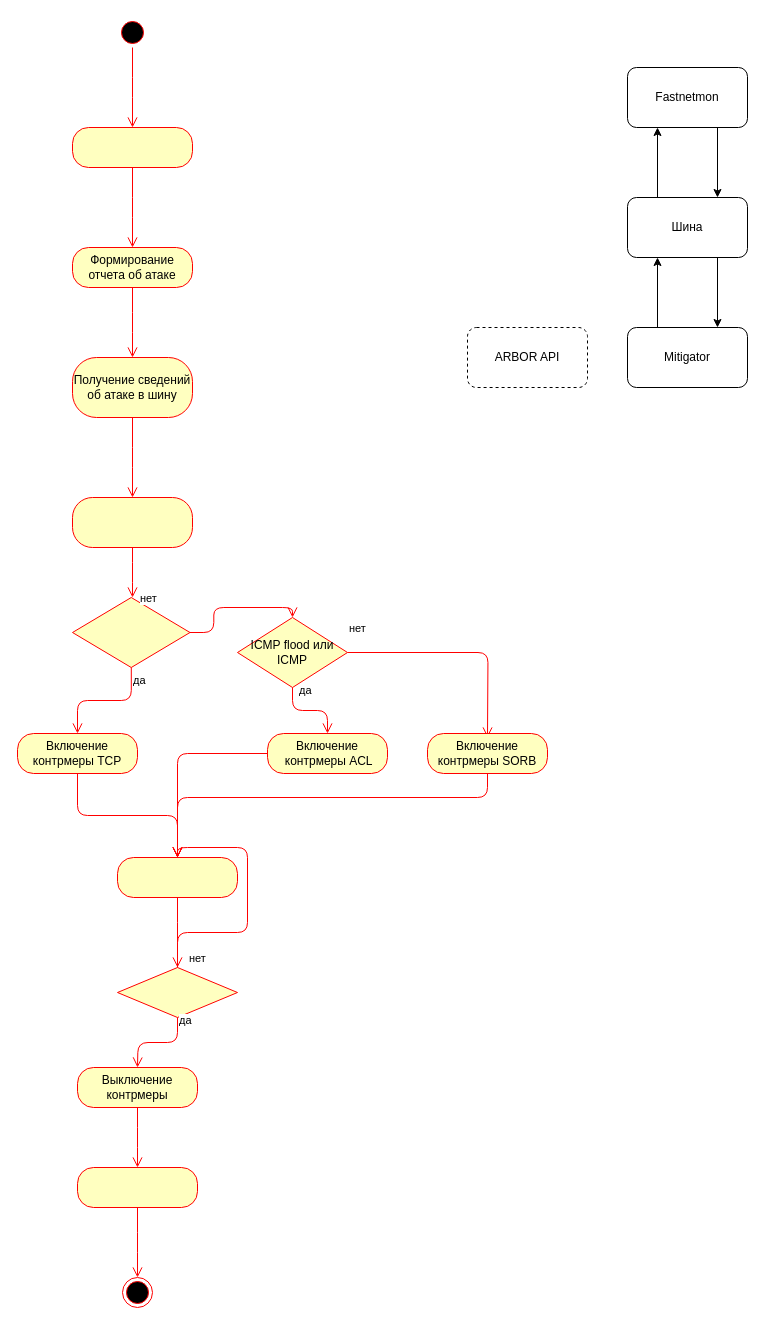
This 765x1325 diagram has some shape labels left out. The box of each missing label's shape, as (x1, y1, x2, y2) in pixels:
SYNC flood или TCP: (72, 596, 190, 668)
Выключение политики защиты: (76, 1166, 198, 1208)
Обнаружение атаки: (72, 126, 192, 168)
Опасный трафик упал?: (116, 966, 238, 1018)
Определение типа атаки и режима противодействия: (72, 496, 192, 548)
Работа контрмеры: (116, 856, 238, 898)
